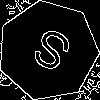S: (23, 25, 76, 82)
